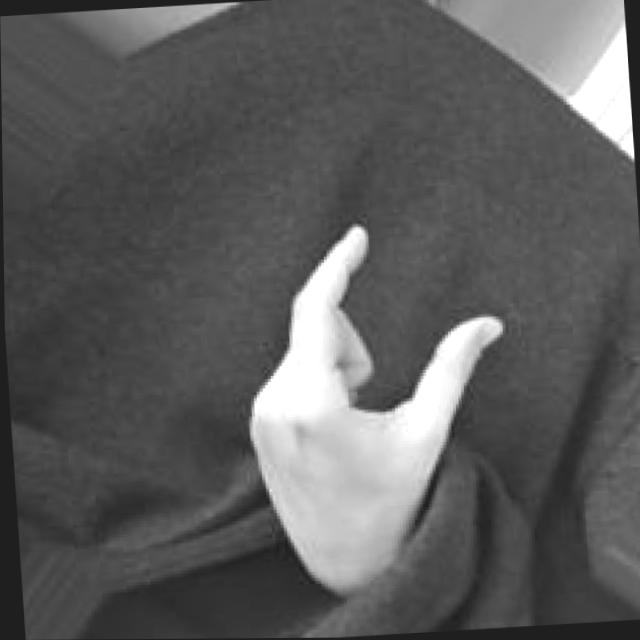U: (233, 208, 524, 604)
